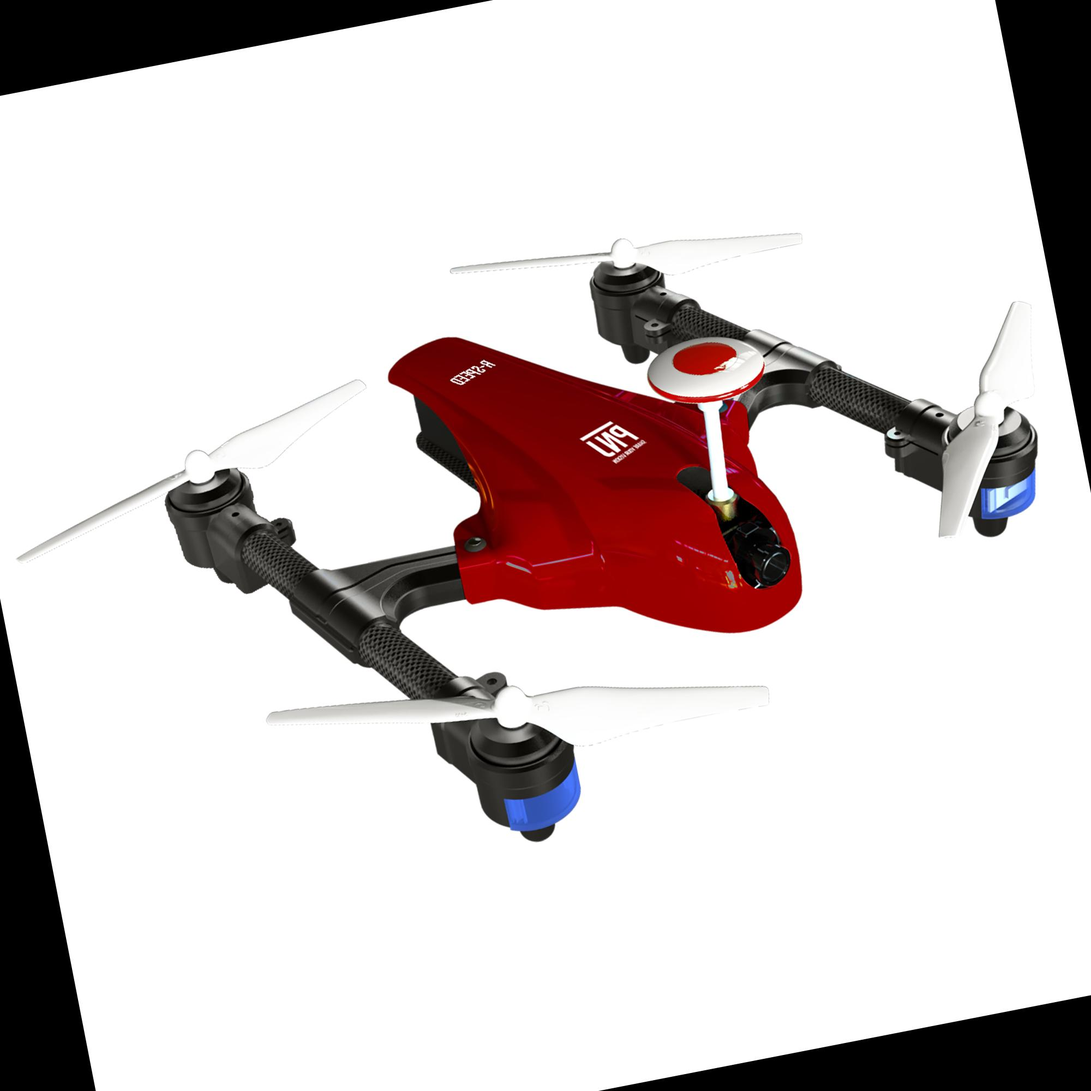drone: (0, 123, 1091, 928)
